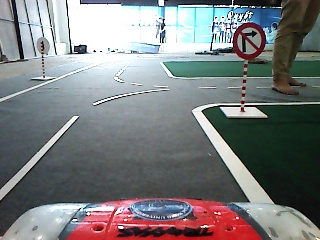ban_right: (232, 22, 267, 59)
